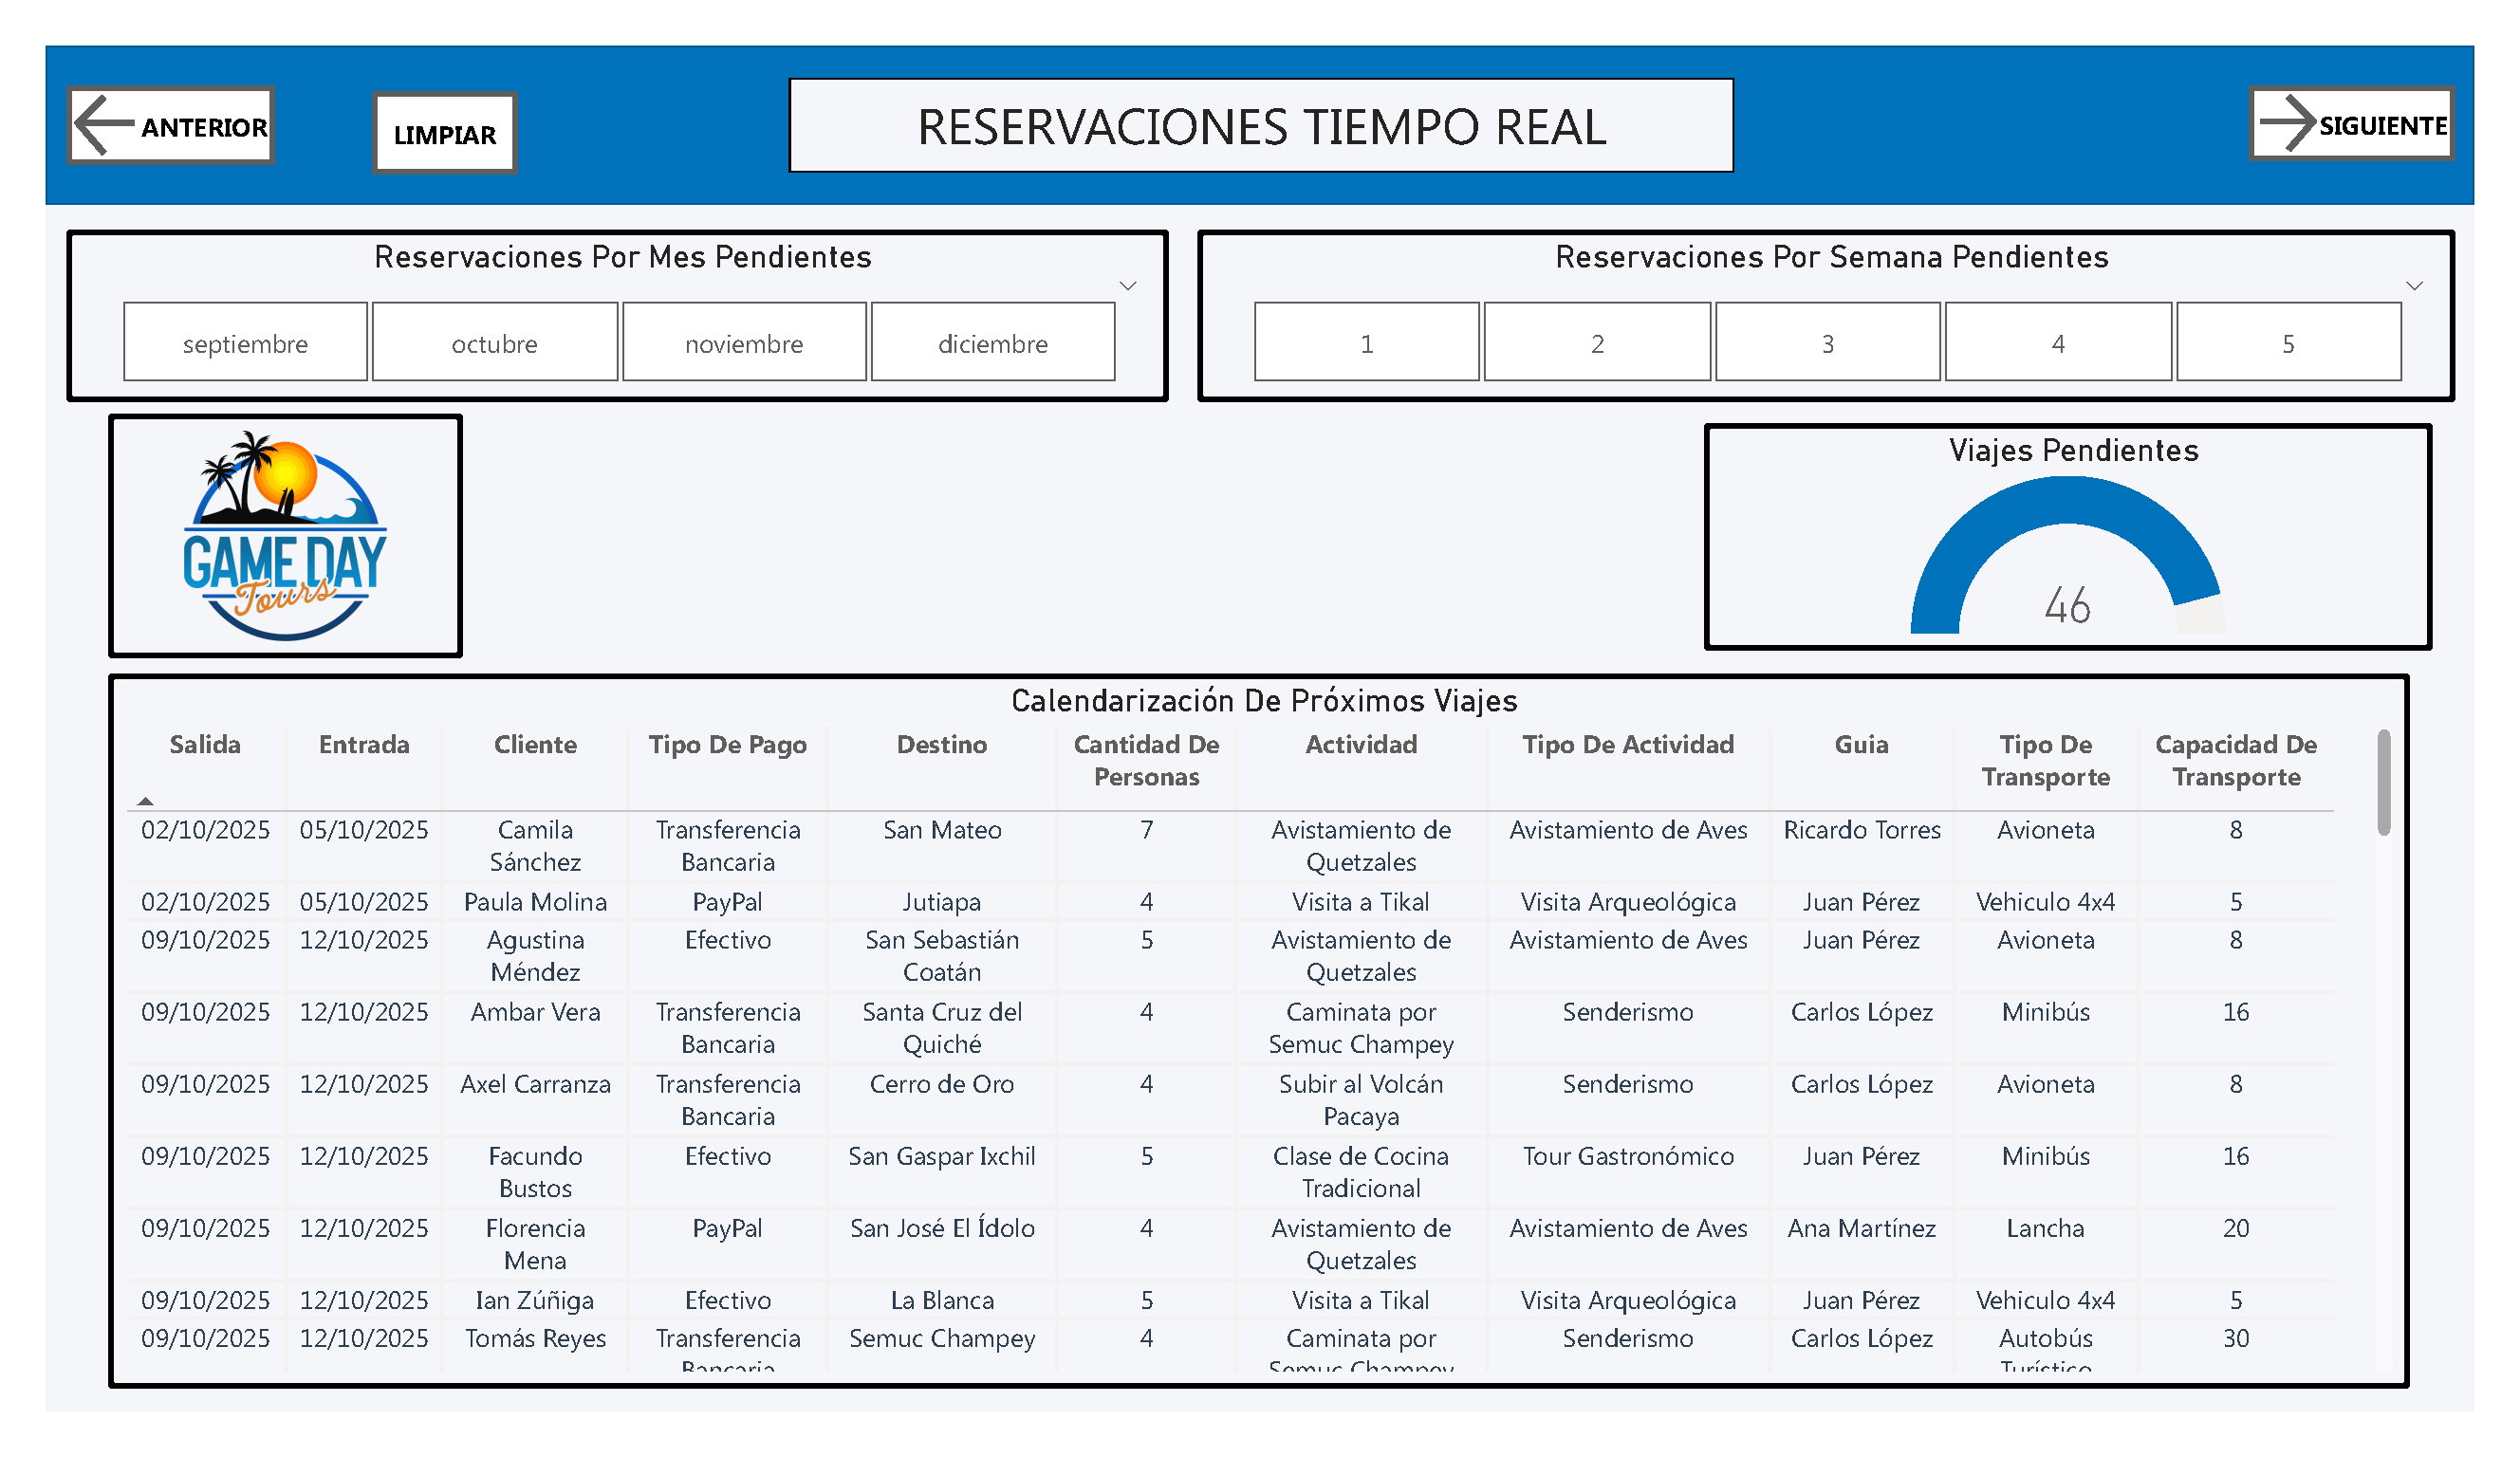

The dashboard page shown, as its layout file describes it:
{"tool":"powerbi","page":{"name":"RESERVACIONES TIEMPO REAL","canvas":[1280,720],"ordinal":8},"visuals":[{"type":"shape","box":[0,0,1280,83.8],"z":0},{"type":"textbox","box":[391.7,16.7,498.3,50],"z":1000},{"type":"actionButton","box":[1160.8,21.1,108.9,39.5],"z":2000},{"type":"actionButton","title":"Atras","box":[10.5,21.1,110.6,42.1],"z":3000},{"type":"tableEx","title":"Calendarización De Próximos Viajes","fields":{"Values":["reser_tiempo_real.FECHA_SALIDA","reser_tiempo_real.FECHA_ENTRADA","reser_tiempo_real.NOMBRE_CLIENTE","reser_tiempo_real.TIPO_PAGO","reser_tiempo_real.NOMBRE_DESTINO","Sum(reser_tiempo_real.CANT_PERSONAS)","reser_tiempo_real.NOMBRE_ACTIVIDAD","reser_tiempo_real.TIPO_ACTIVIDAD","reser_tiempo_real.NOMBRE_GUIA","reser_tiempo_real.TIPO_TRANSPORTE","Sum(reser_tiempo_real.CAPACIDAD_TRANSPORTE)"]},"box":[33.4,331,1212.6,376.7],"z":4000},{"type":"slicer","title":"Reservaciones Por Mes Pendientes","fields":{"Values":["reser_tiempo_real.FECHA_SALIDA.Variación.Jerarquía de fechas.Mes"]},"box":[10.7,97.3,581.6,90.5],"z":5000},{"type":"slicer","title":"Reservaciones Por Semana Pendientes","fields":{"Values":["reser_tiempo_real.Semana"]},"box":[606.9,97.3,663.3,90.5],"z":6000},{"type":"gauge","title":"Viajes Pendientes","fields":{"Y":["CountNonNull(reser_tiempo_real.Semana)"]},"box":[873.7,199.3,384.6,119.4],"z":7000},{"type":"image","box":[33.4,194,187,129.1],"z":8000},{"type":"actionButton","box":[172.1,23.7,77.3,44.8],"z":9000}]}

Visuals, with their boxes in screenshot pixels (x1, y1, x2, y2), scaled from the page's 1280x720 canvas onto the 2520x1457 screenshot:
shape: [x1=0, y1=0, x2=2519, y2=170]
textbox: [x1=771, y1=34, x2=1752, y2=135]
actionButton: [x1=2286, y1=43, x2=2500, y2=122]
"Atras" actionButton: [x1=21, y1=43, x2=238, y2=128]
"Calendarización De Próximos Viajes" tableEx: [x1=65, y1=670, x2=2453, y2=1432]
"Reservaciones Por Mes Pendientes" slicer: [x1=21, y1=197, x2=1166, y2=380]
"Reservaciones Por Semana Pendientes" slicer: [x1=1195, y1=197, x2=2501, y2=380]
"Viajes Pendientes" gauge: [x1=1720, y1=403, x2=2477, y2=645]
image: [x1=65, y1=393, x2=434, y2=654]
actionButton: [x1=339, y1=48, x2=491, y2=138]
